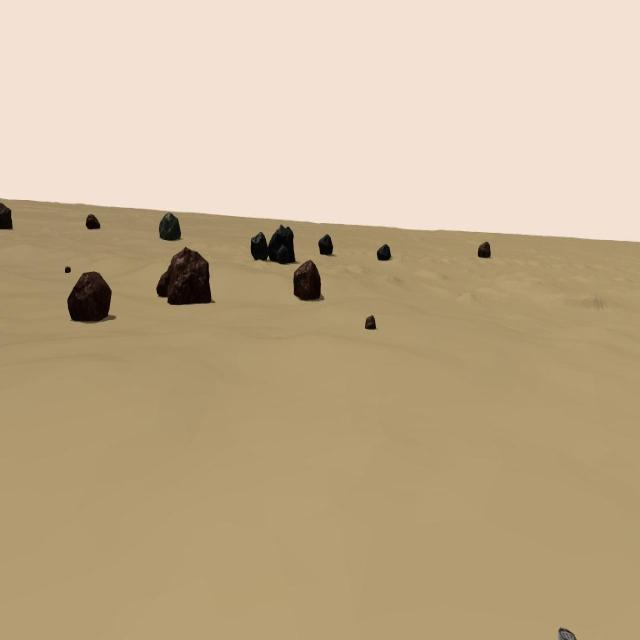rock: (167, 246, 211, 305), (67, 271, 111, 323), (293, 259, 321, 301), (269, 224, 296, 264), (159, 212, 181, 240), (252, 230, 268, 262), (157, 266, 169, 298), (0, 202, 12, 229), (319, 235, 333, 255), (376, 243, 391, 260), (86, 213, 100, 229), (478, 240, 490, 258), (364, 315, 376, 329), (65, 266, 71, 273)
